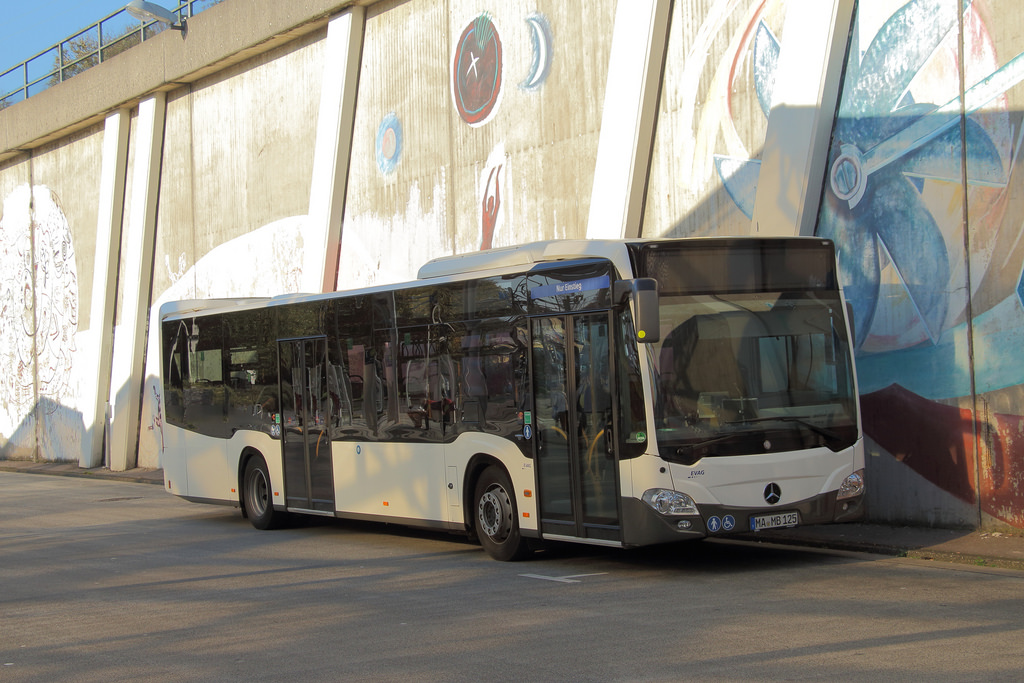front_view: (5, 155, 374, 345)
headlight: (162, 167, 329, 242)
side_glass: (421, 13, 508, 111)
